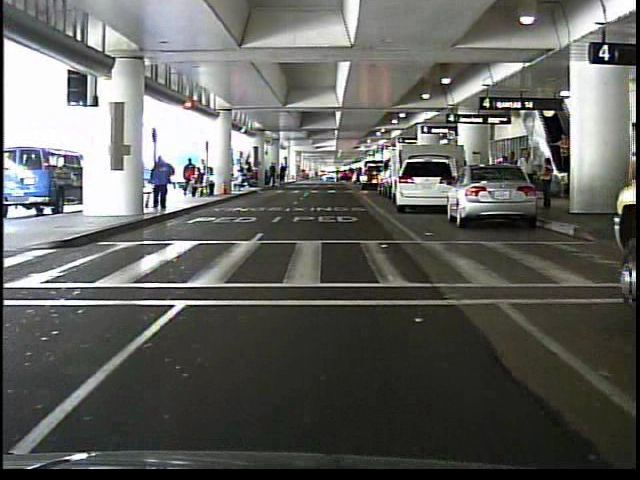person: (147, 154, 175, 212)
